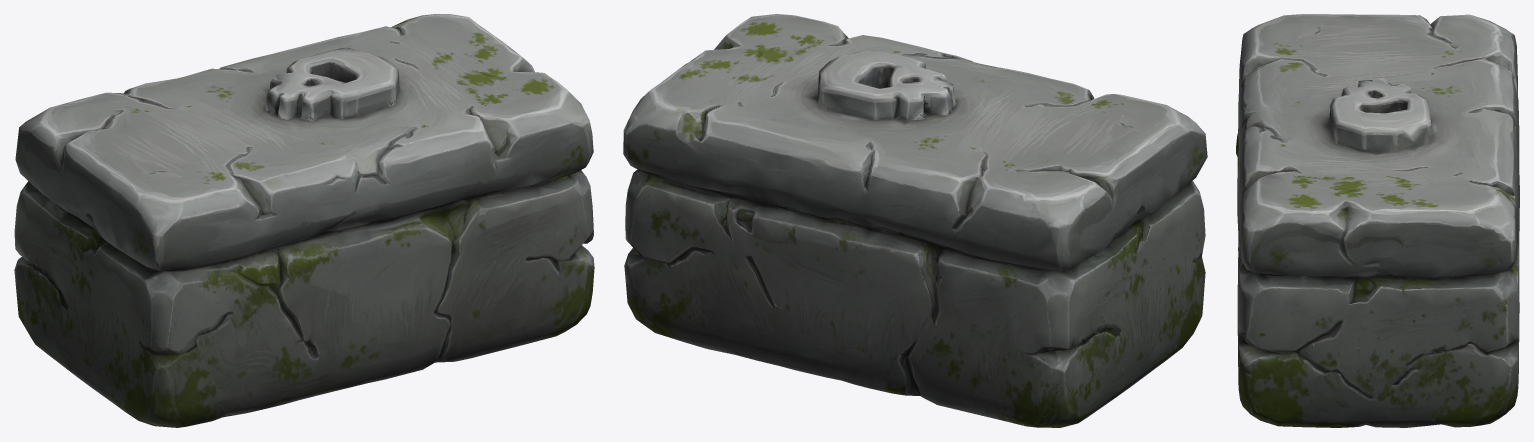
The model's file is Prop_Tomb.fbx.
3 renders of one model, left to right at view 1: azimuth 30°, elevation 25°; view 2: azimuth 150°, elevation 25°; view 3: azimuth 270°, elevation 25°, orthographic. The views are drawn at different scales.
Parts seen in each view (by area): view 1: texture_mapping; view 2: texture_mapping; view 3: texture_mapping.
Boxes of the visible parts, x1,y1,x2,y2 form: texture_mapping: (14,14,594,427); texture_mapping: (623,14,1207,427); texture_mapping: (1236,14,1519,427).
Size of the model in its own units: 0.9966 by 0.5822 by 0.545.
1 material, 1 textured.
